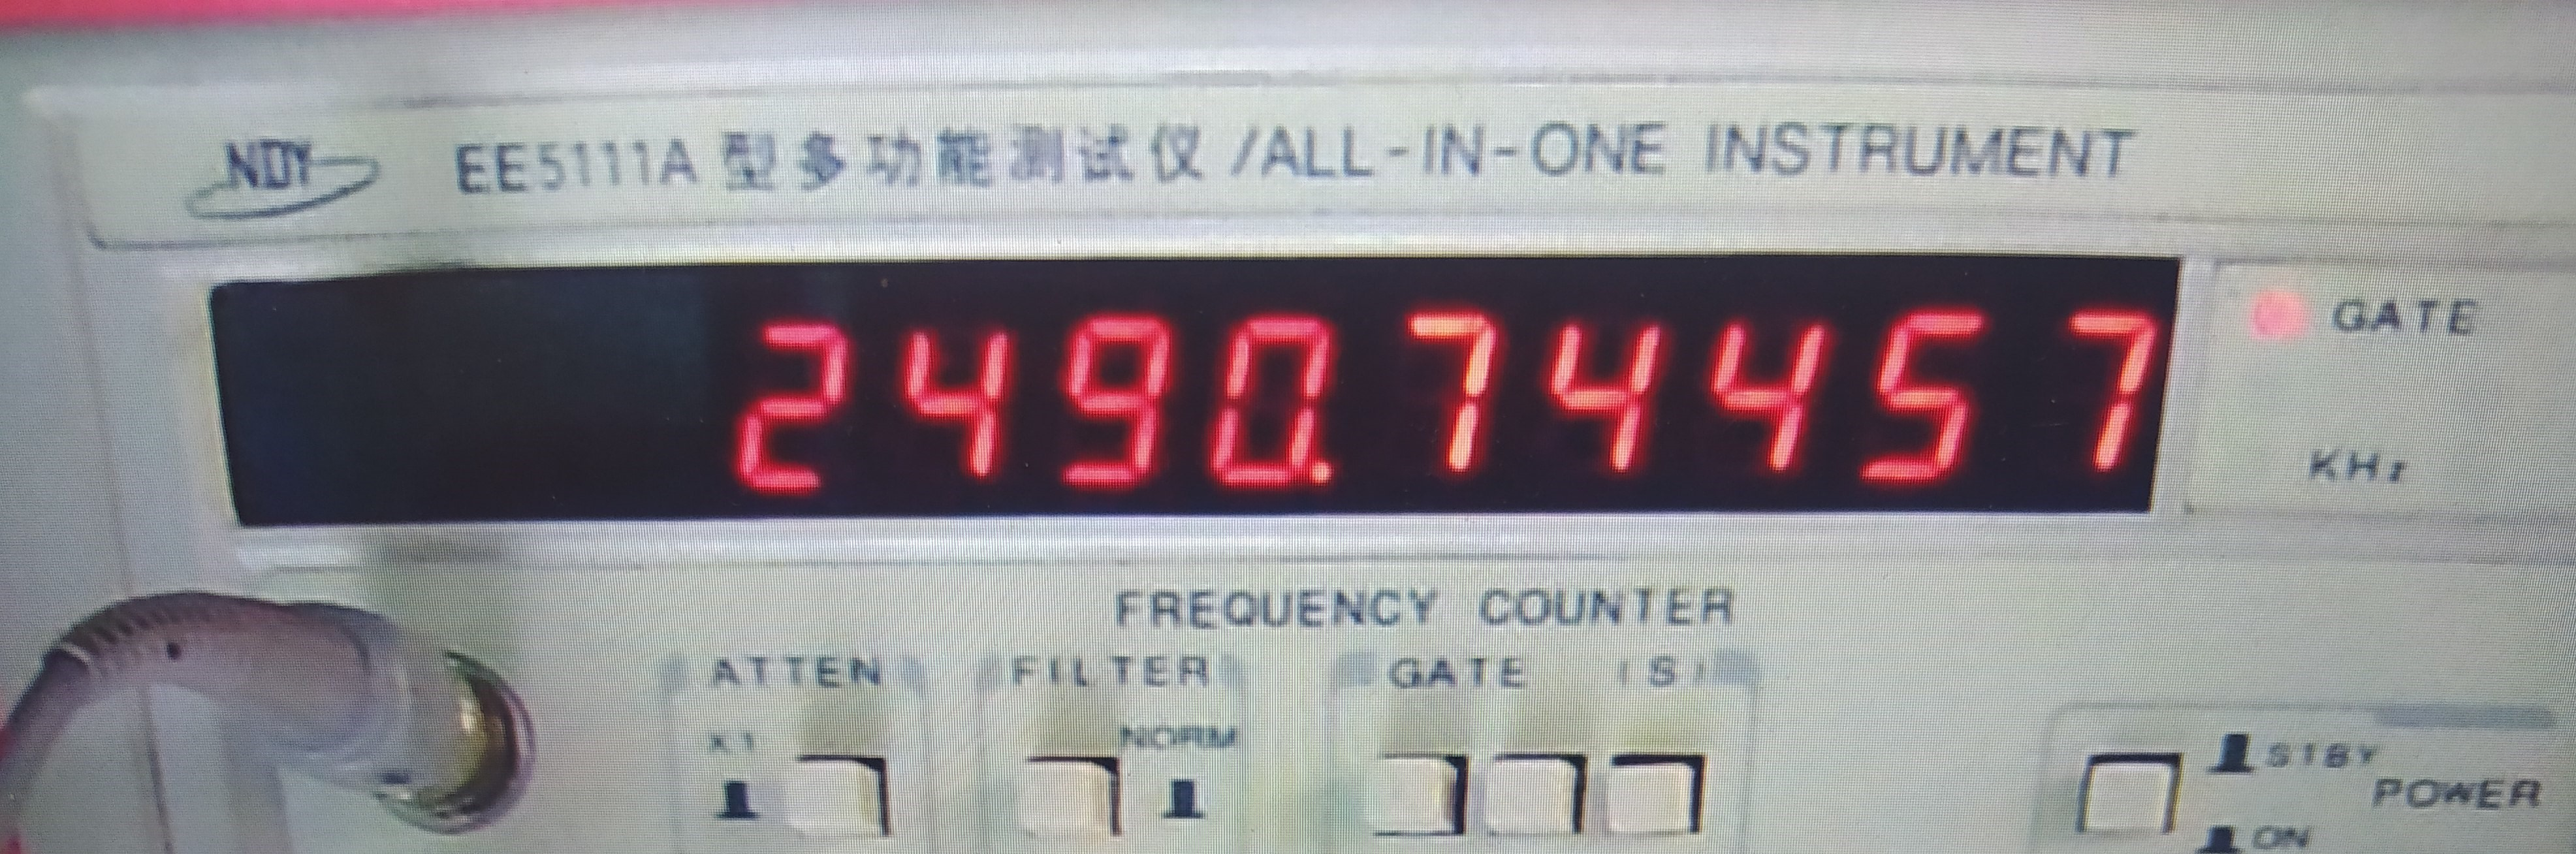.: (1309, 312, 1341, 496)
0: (1198, 312, 1334, 496)
2: (734, 319, 849, 499)
4: (1707, 305, 1830, 493), (1544, 307, 1664, 491), (900, 317, 1015, 501)
5: (1866, 307, 1988, 494)
7: (1398, 309, 1503, 488), (2060, 304, 2159, 491)
9: (1056, 315, 1178, 499)
